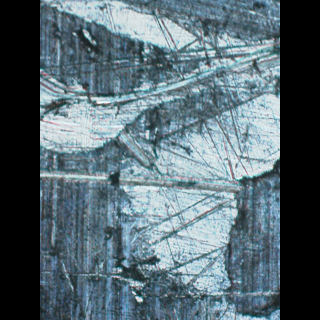d: (40, 0, 279, 320)
